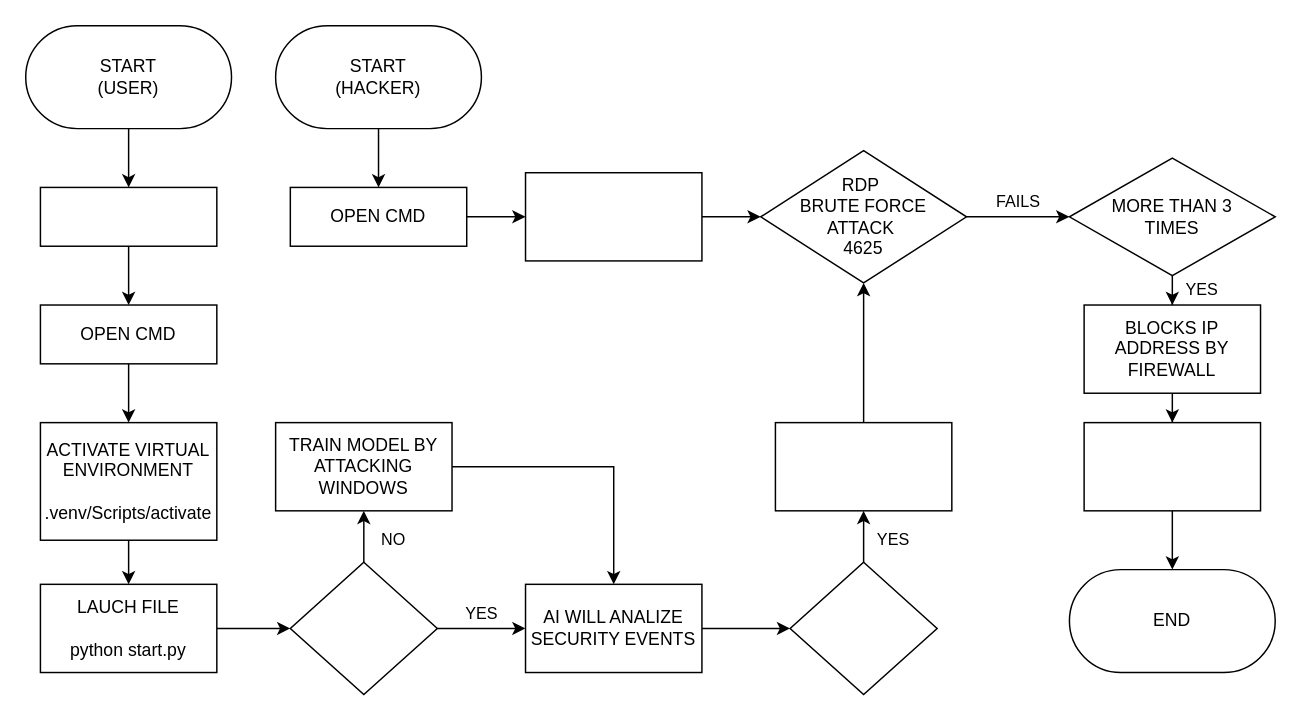
The diagram is 1301 pixels wide and 720 high, and some of its shapes have lost their labels. Each missing label, with the centre of its shape:
AI MODEL TRAINED: (x=363, y=628)
ANOMALY DETECTED: (x=863, y=628)
SENDS EVENT TO TELEGRAM: (x=863, y=466)
SENDS MESSAGE ABOUT BLOCKING IP: (x=1172, y=466)
SETUP PROJECT: (x=128, y=216)
TYPE: mstsc -v:USERNAME: (x=613, y=216)
